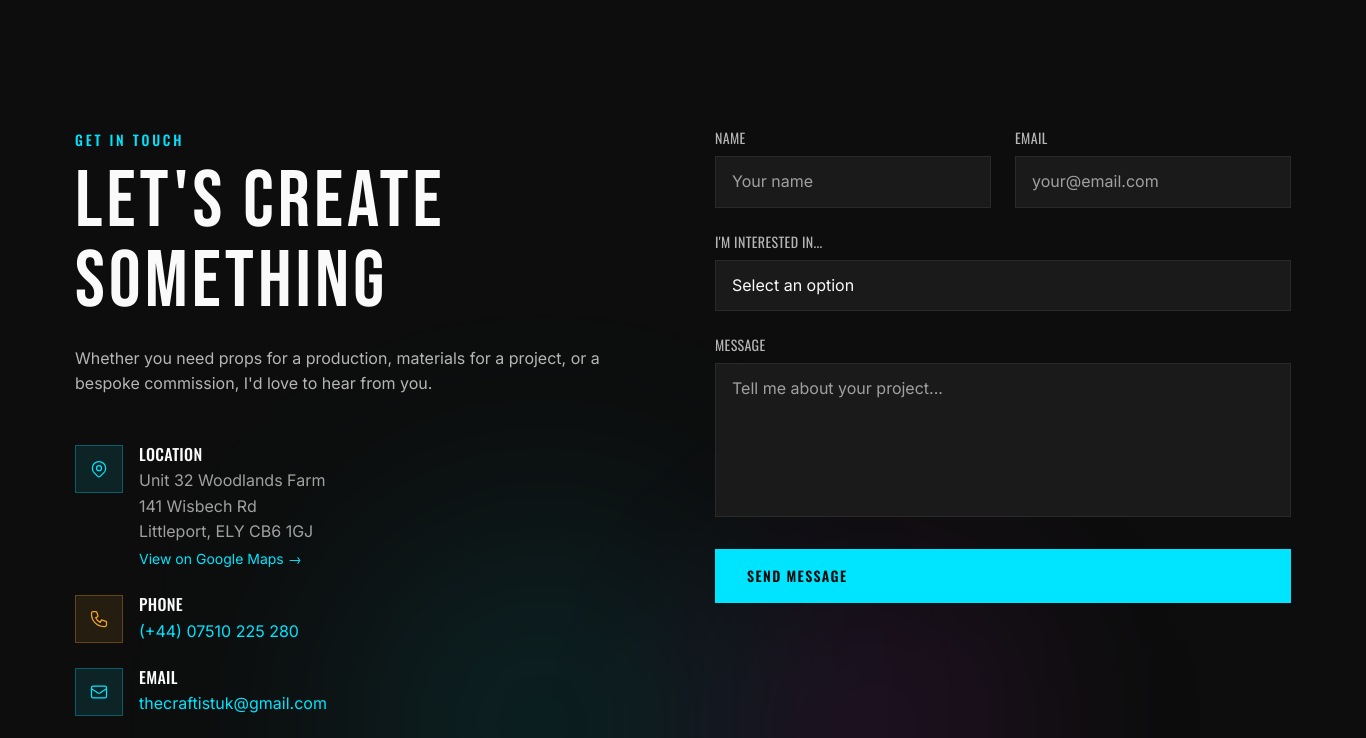
Contact › opens a pre-filled mailto and does not fake success when no endpoint is configured
The image size is (1366, 738).
Type "Test User" into the field labelled "Name". click: (853, 182)
box: 715,156 -> 991,208
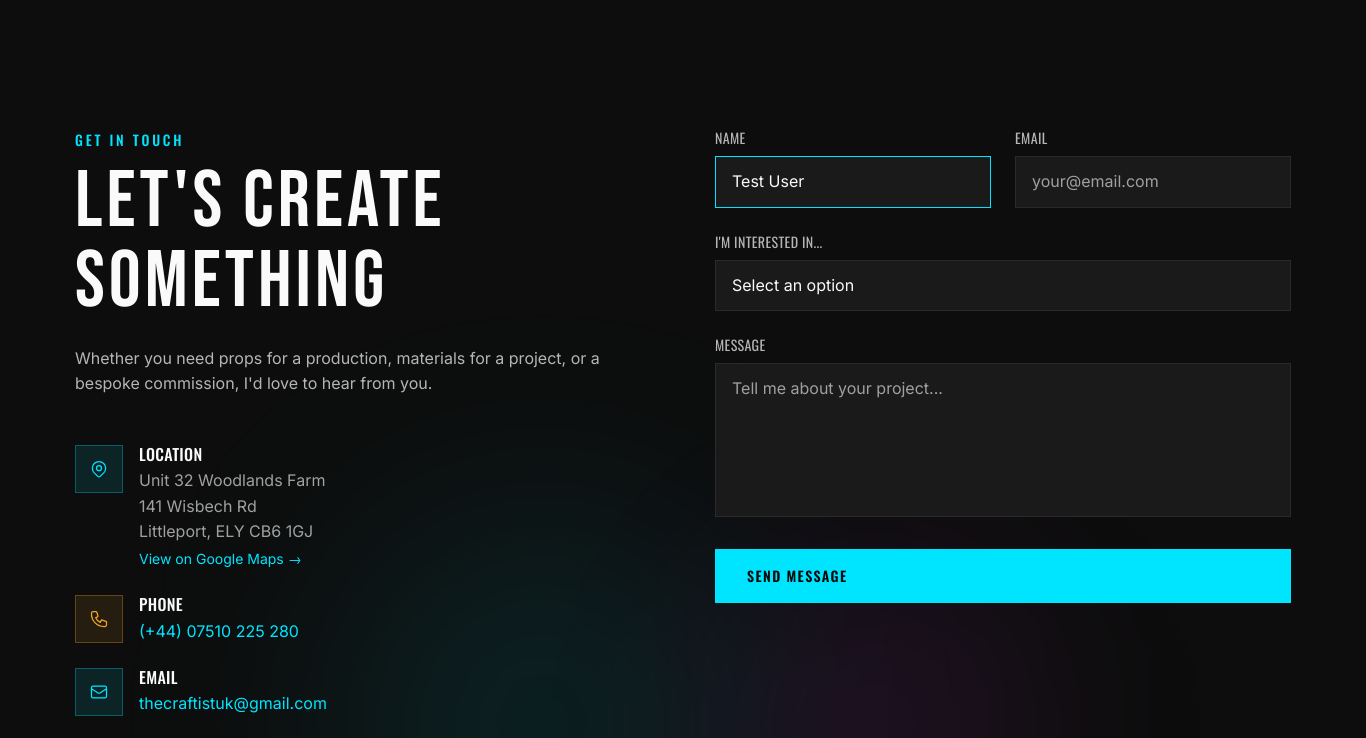
Type "test@example.com" into the field labelled "Email". click: (1153, 182)
box: 1015,156 -> 1291,208
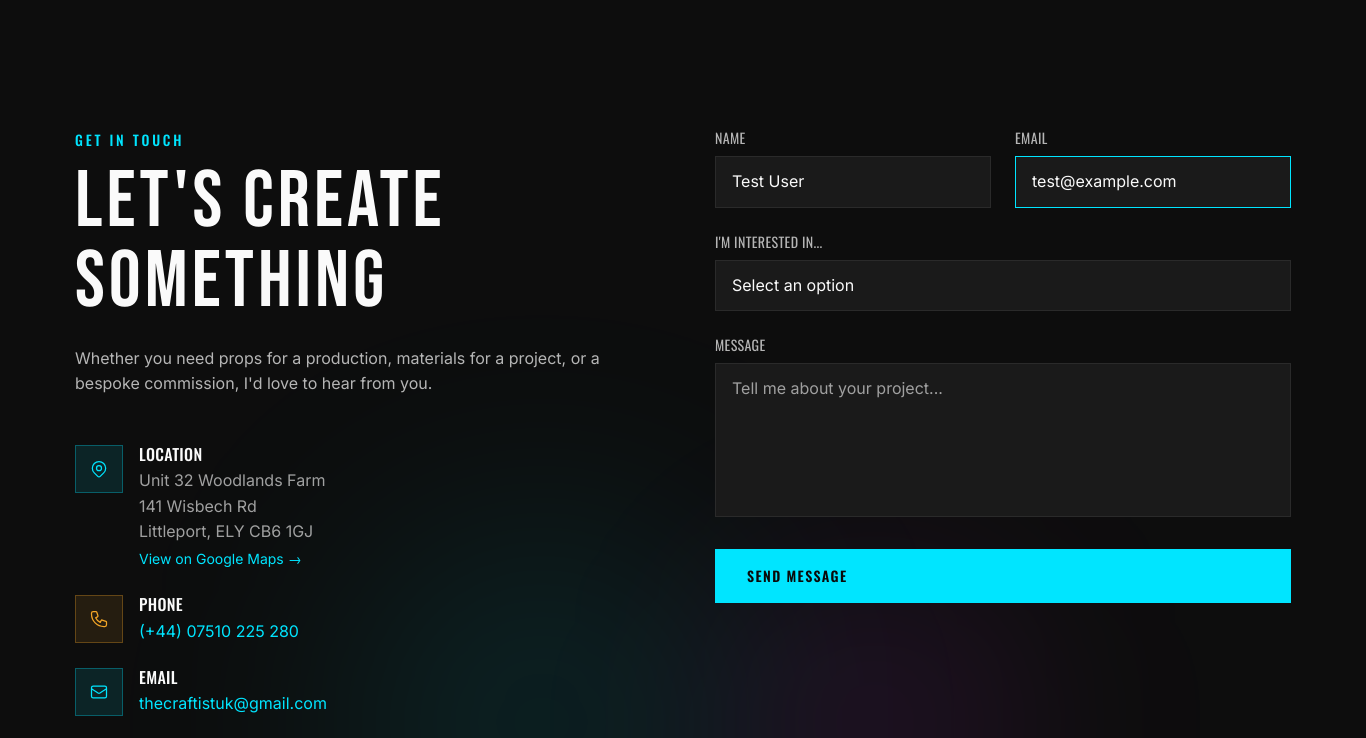
Select "Bespoke Commission" in the dropdown labelled "I'm interested in...". click: (1003, 285)
box: 715,260 -> 1291,311
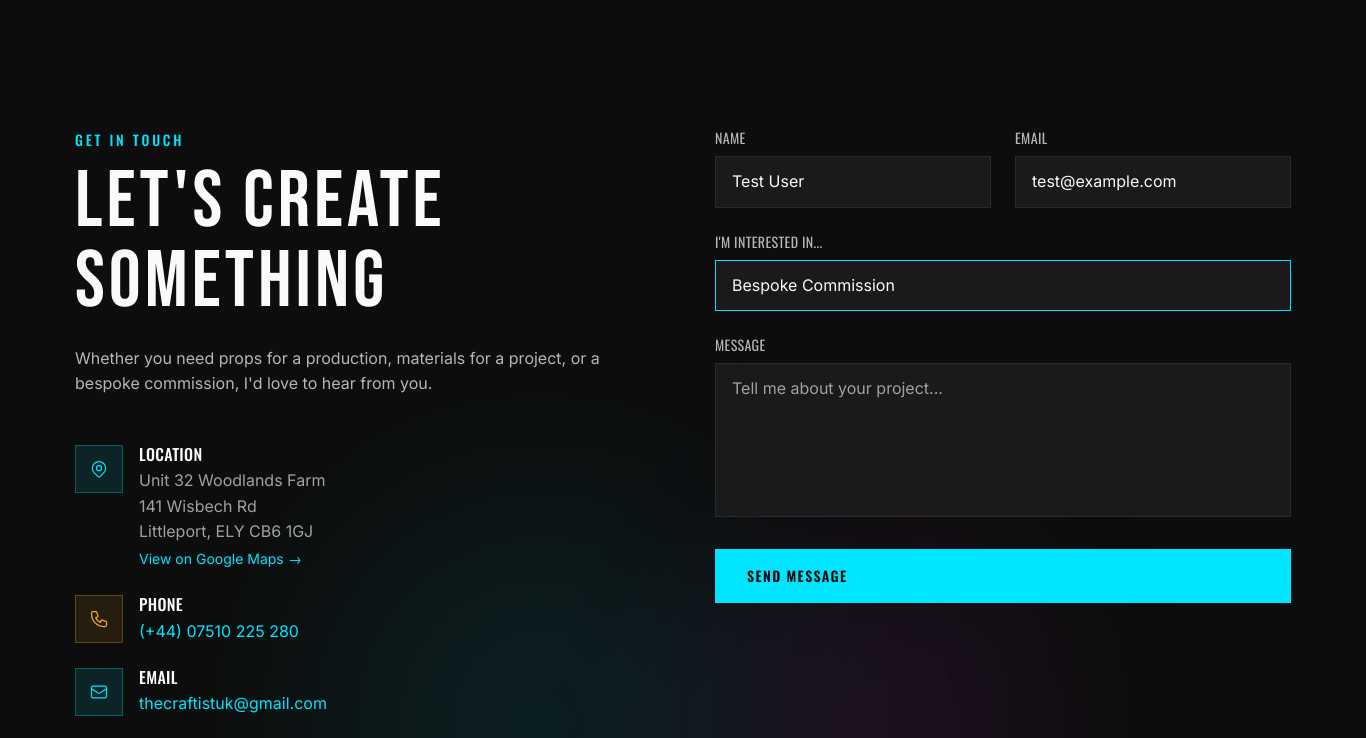
Type "Hello!" into the text box labelled "Message". click: (1003, 440)
box: 715,363 -> 1291,517
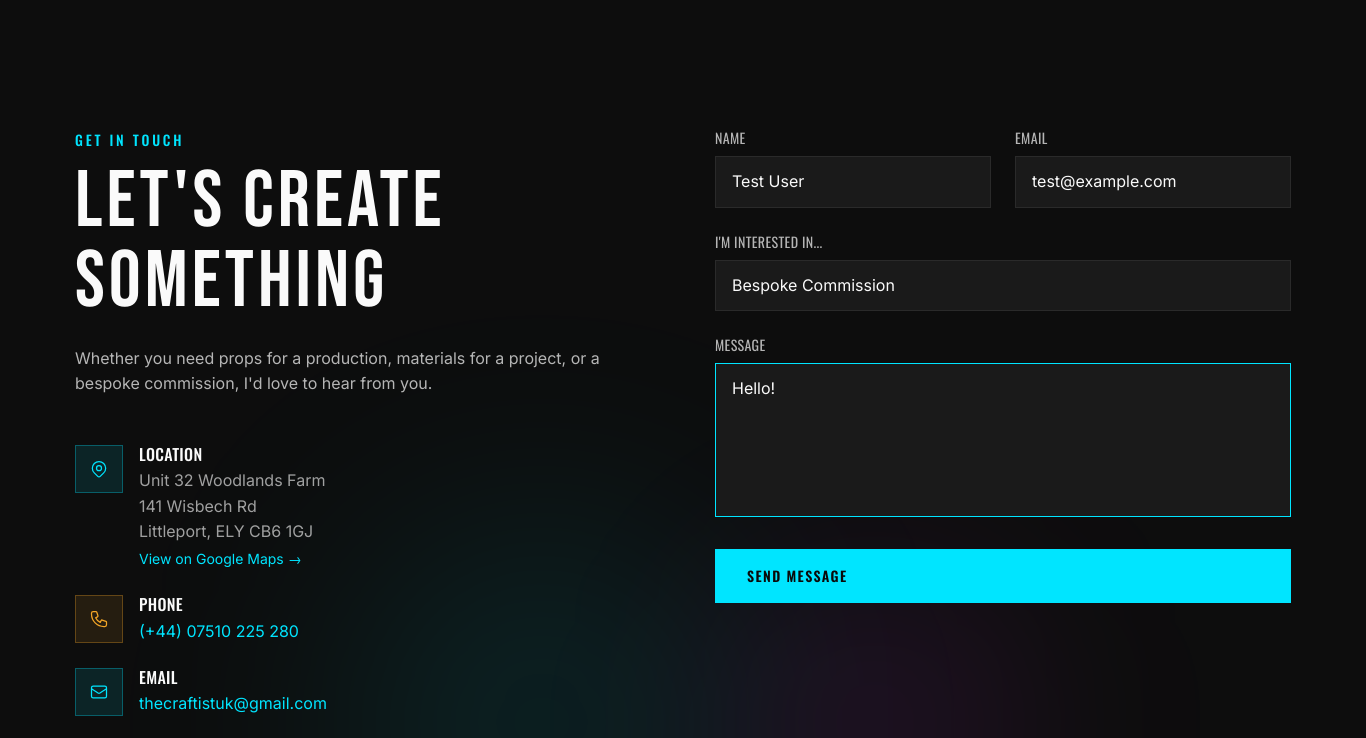
Click the button "Send Message". click: (797, 575)
box: 715,549 -> 1291,603
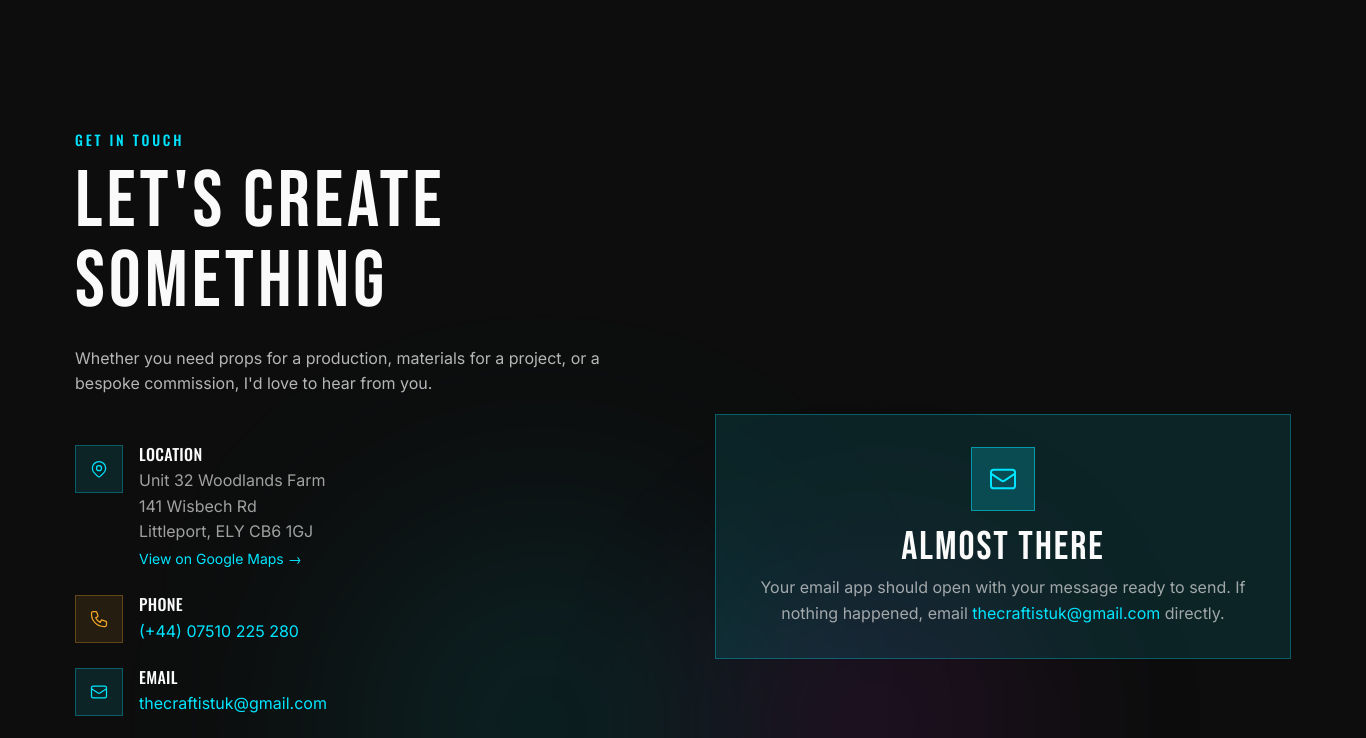
Check: the text "email app should open" is shown, box 760,577 -> 1246,623
